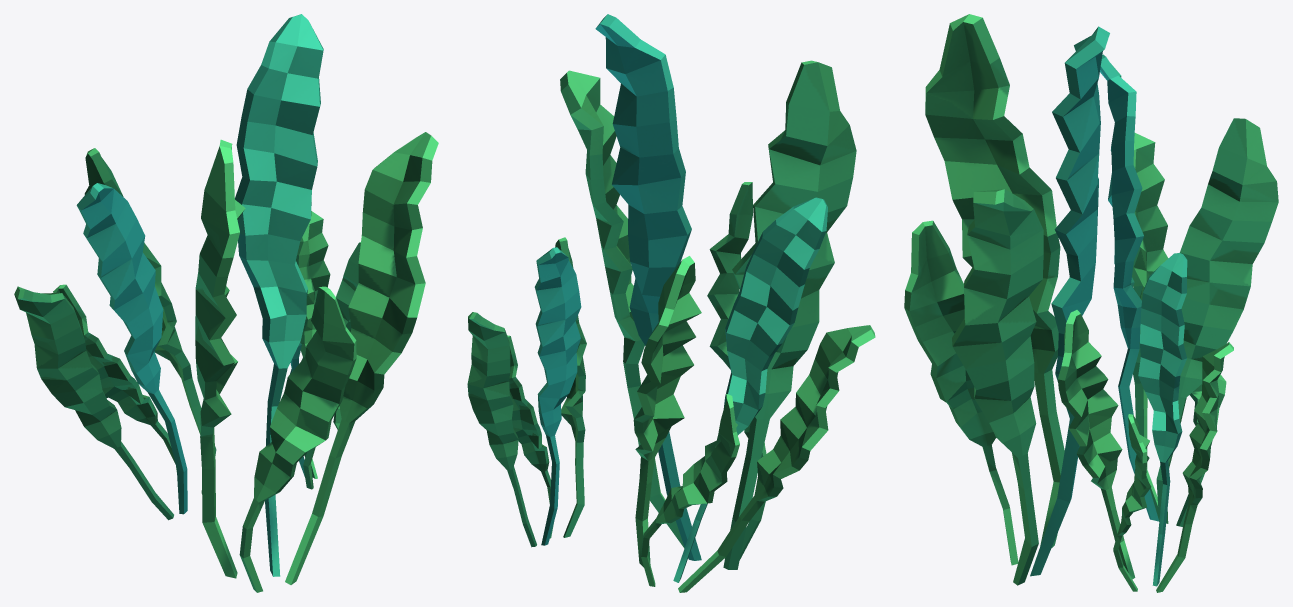
File: seaweed_cluster_a.glb
3 renders of one model, left to right at view 1: azimuth 30°, elevation 25°; view 2: azimuth 150°, elevation 25°; view 3: azimuth 270°, elevation 25°, orthographic. The views are drawn at different scales.
Parts seen in each view (by area): view 1: kelp.002; view 2: kelp.002; view 3: kelp.002.
Part boxes in pixels (x1,y1,x2,y2): kelp.002: [14, 14, 438, 592]; kelp.002: [467, 14, 875, 592]; kelp.002: [904, 14, 1278, 592].
Bounding box in the file's own units: 0.3256 × 0.4566 × 0.2677.
1 material, 1 textured.
